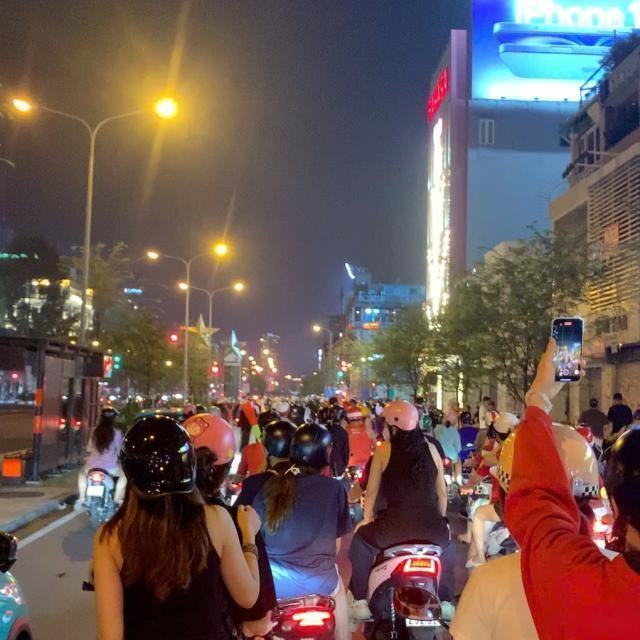motorcycle: (357, 538, 453, 639), (243, 568, 351, 640)
